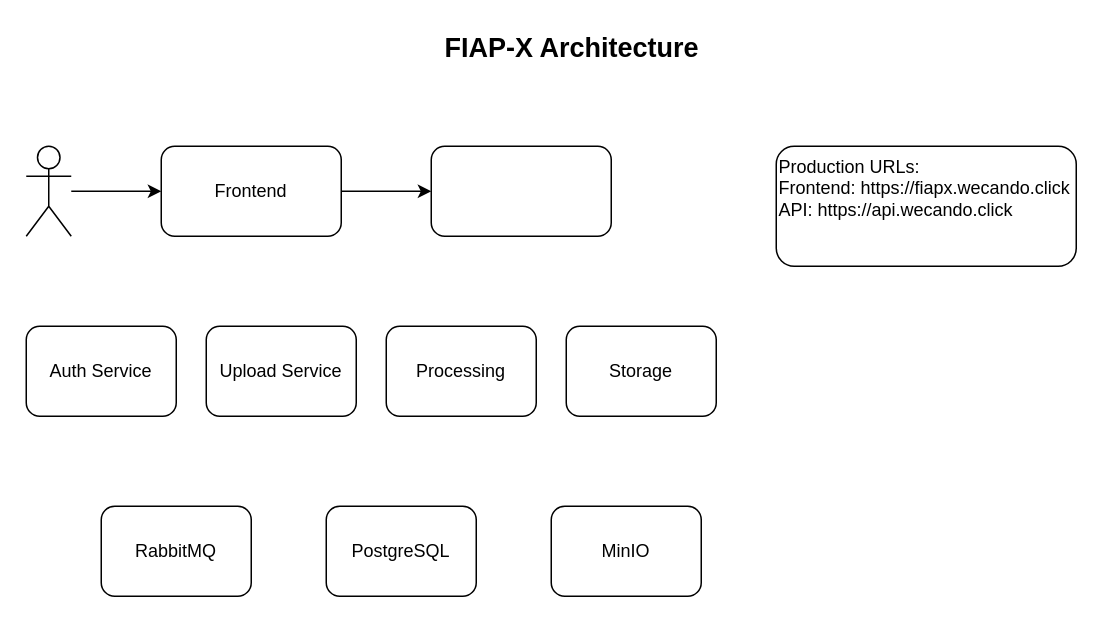
Image size: 1103x623. Some labels were removed from this diagram. The centre of each missing label's shape, as x and y in pixels:
"API Gateway" goes at point (520, 190).
"User" goes at point (48, 190).
